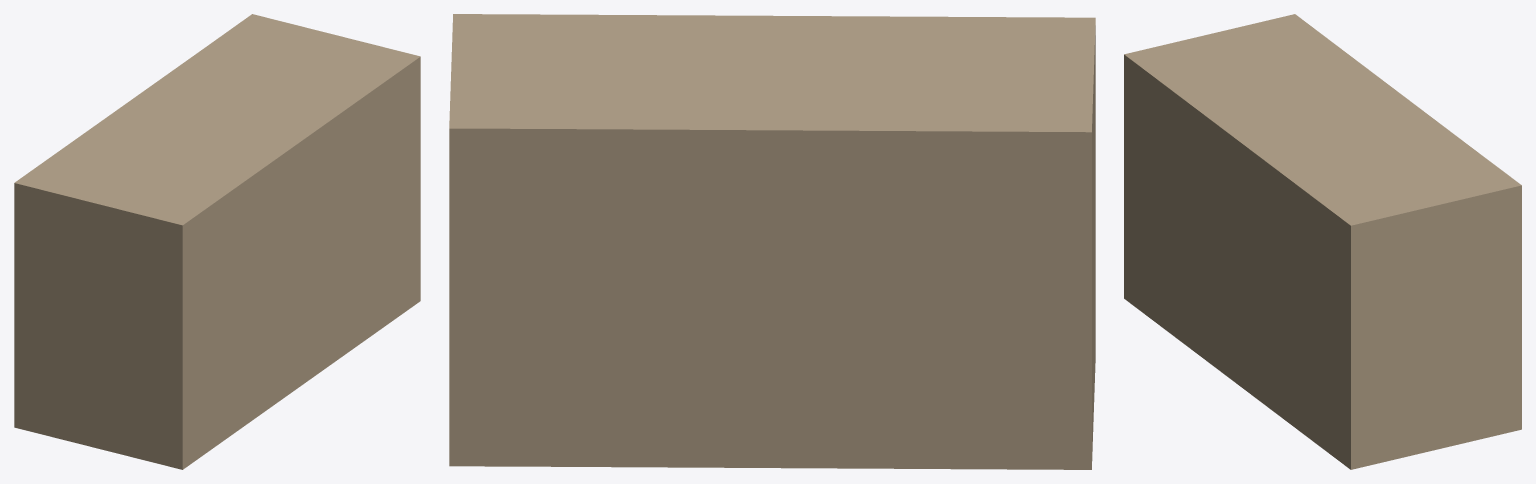
File: bld_109034853.dae
3 renders of one model, left to right at view 1: azimuth 30°, elevation 25°; view 2: azimuth 150°, elevation 25°; view 3: azimuth 270°, elevation 25°, orthographic. The views are drawn at different scales.
Visible parts, largest first — view 1: bld_109034853; view 2: bld_109034853; view 3: bld_109034853.
Part boxes in pixels (left/top/right/bottom): bld_109034853: left=14, top=14, right=420, bottom=469; bld_109034853: left=449, top=14, right=1095, bottom=469; bld_109034853: left=1124, top=14, right=1521, bottom=469.
Bounding box in the file's own units: 14.88 × 11.81 × 8.
